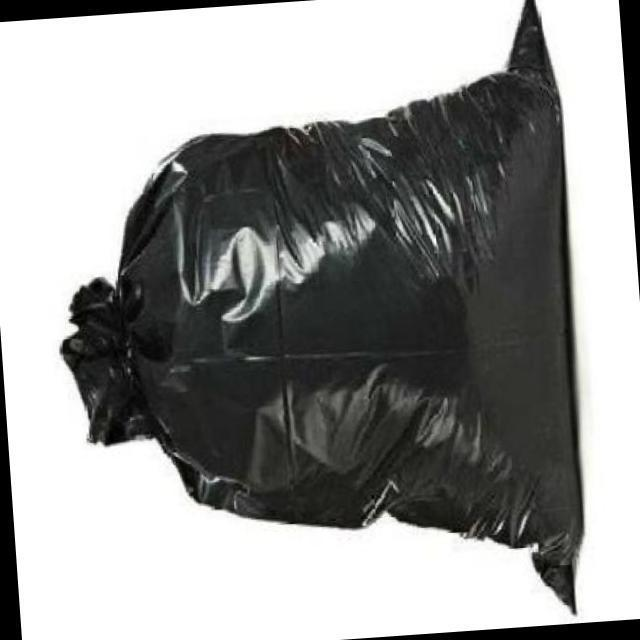Garbage_Bag: (34, 0, 598, 640)
